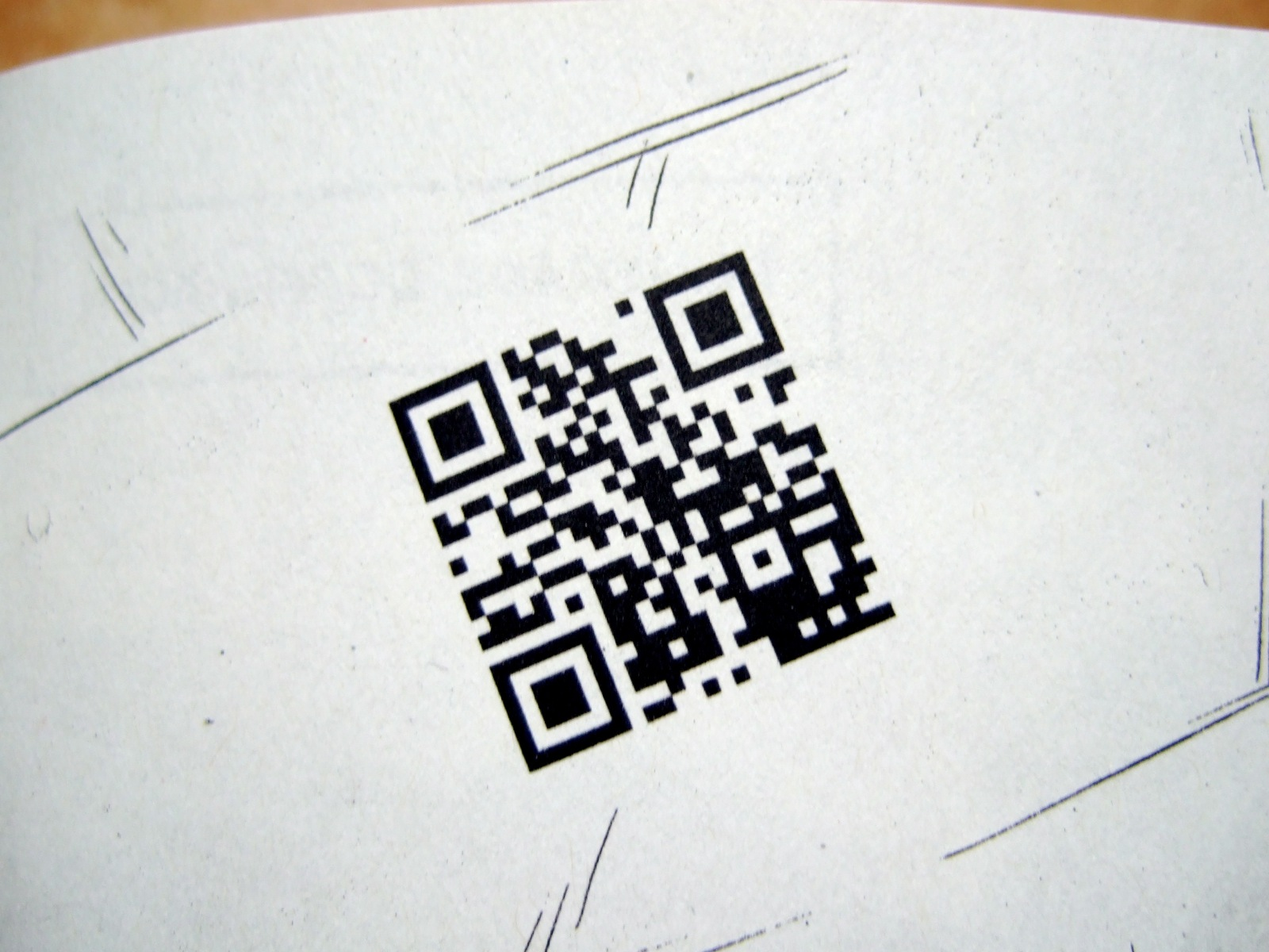QR-CODE: (388, 251, 896, 773)
